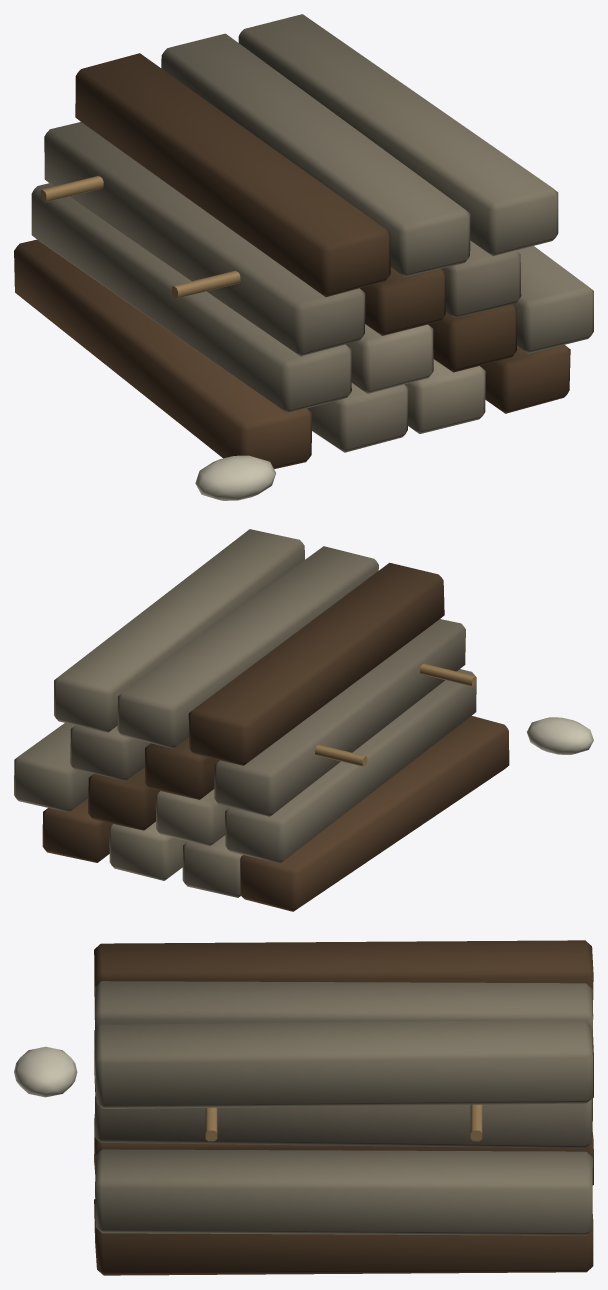
Rendered from timber_ties_a.glb.
The picture shows the model from 3 angles, top to bottom: view 1: azimuth 30°, elevation 25°; view 2: azimuth 150°, elevation 25°; view 3: azimuth 270°, elevation 25°; orthographic projection. The views are drawn at different scales.
Parts seen in each view (by area): view 1: Surface; view 2: Surface; view 3: Surface.
Part boxes in pixels (x1,y1,x2,y2): Surface: (14, 14, 593, 500); Surface: (14, 529, 593, 911); Surface: (14, 940, 593, 1275).
Bounding box in the file's own units: 2.99 × 1.45 × 3.5.
